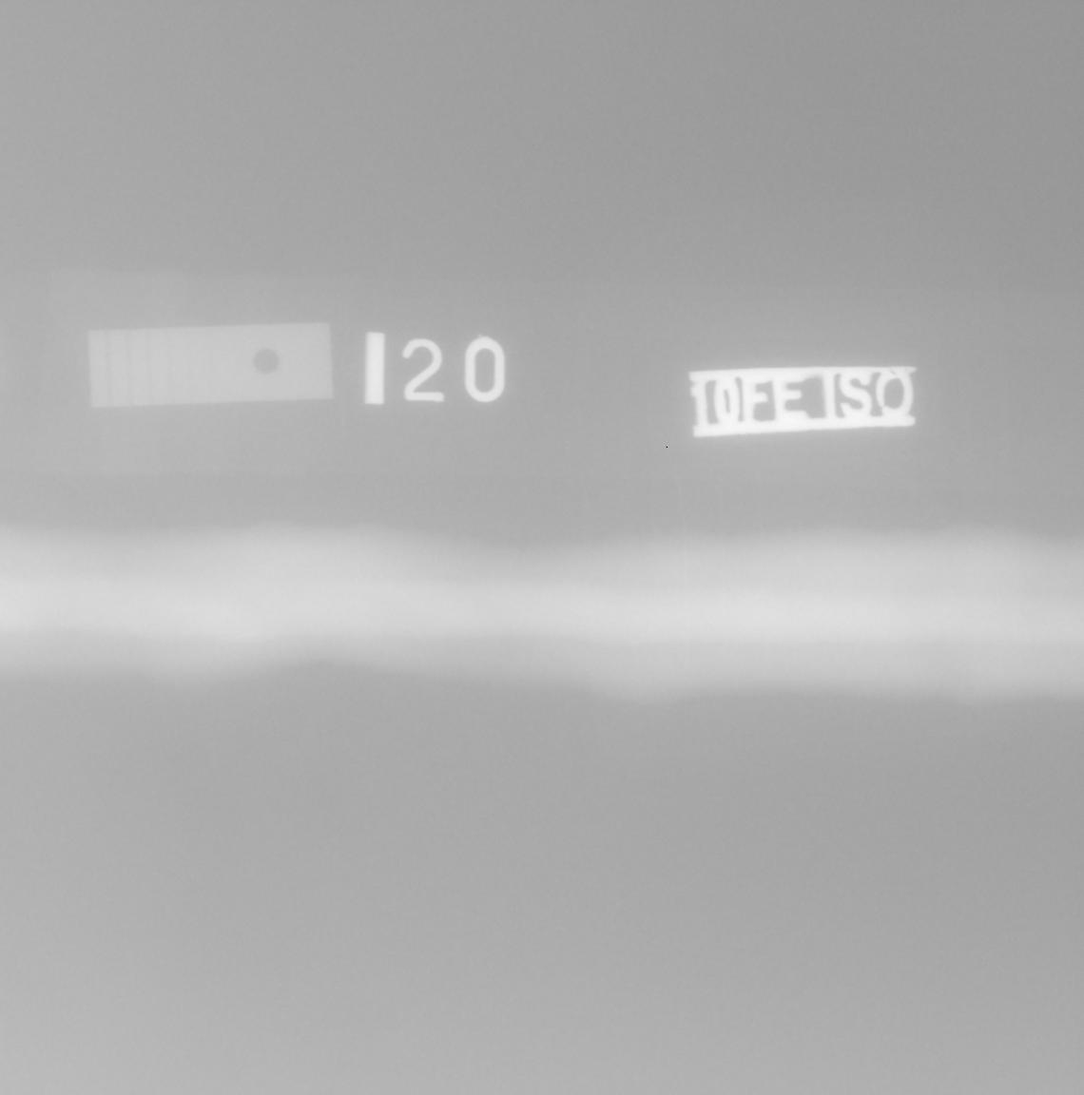Reference Standard 1: (87, 321, 334, 409)
